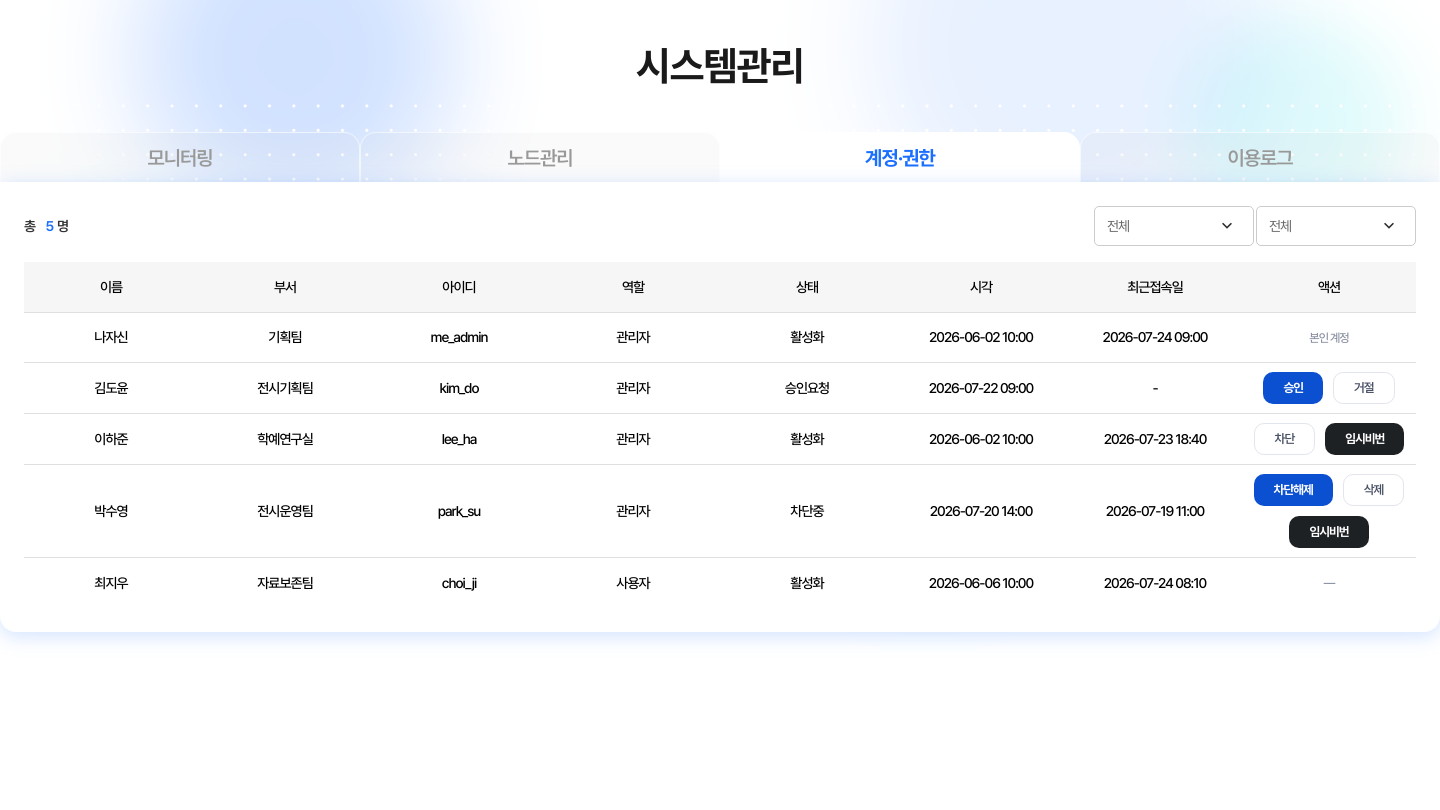
Scenario: Accounts — 필터·행별 인접 액션·확인/임시비번 모달 › (f) 임시비번 클릭: 확인 후 resetPassword 응답의 temporary_password를 1회 모달로 표시한다
Expected: the text "이하준" is shown, [24, 414, 198, 464]
Click the button "임시비번" in the row of "이하준" at [1365, 439], box [1325, 423, 1404, 455]
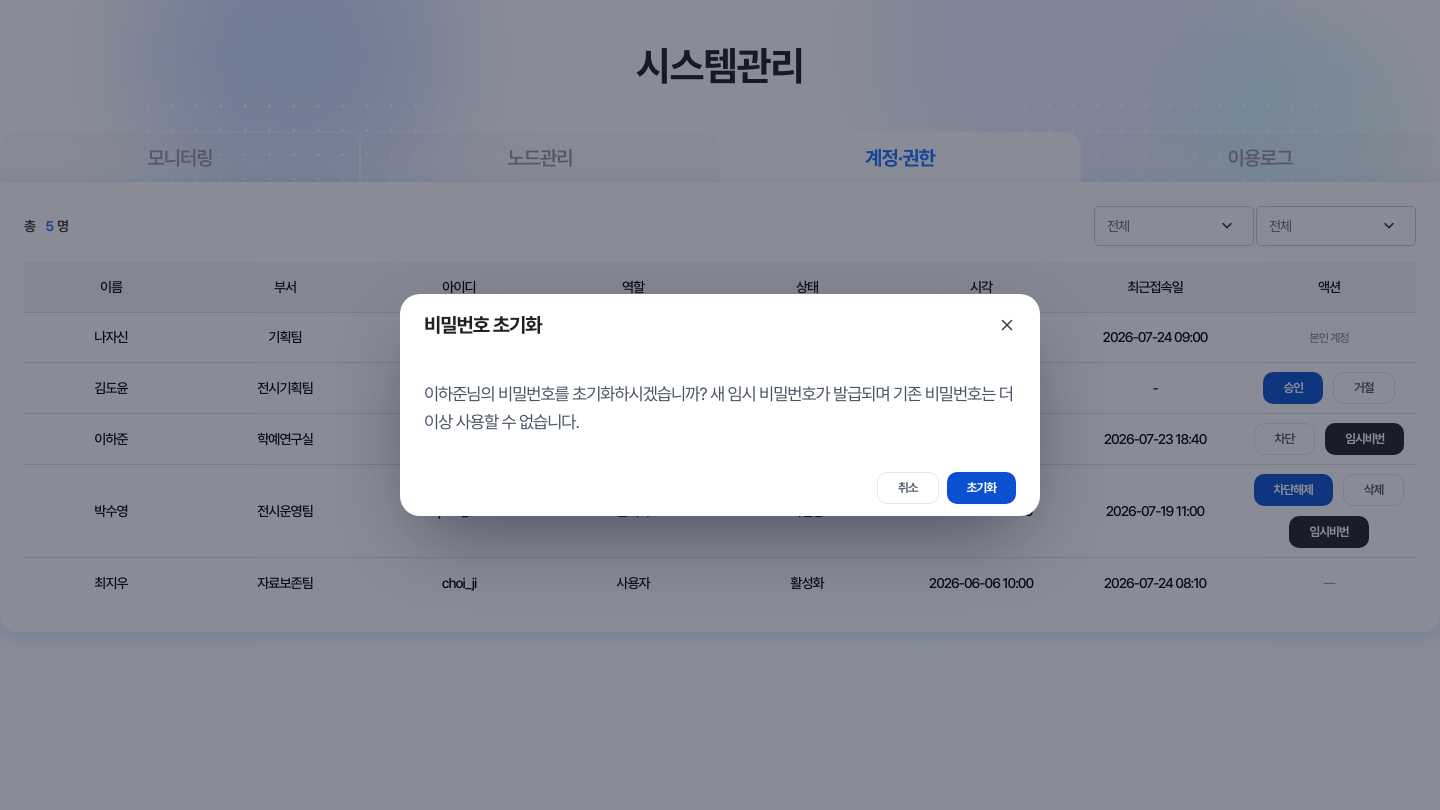
Result: the heading "비밀번호 초기화" is shown at [424, 310, 542, 340]
Click the button "초기화" at [981, 488], box [947, 472, 1016, 504]
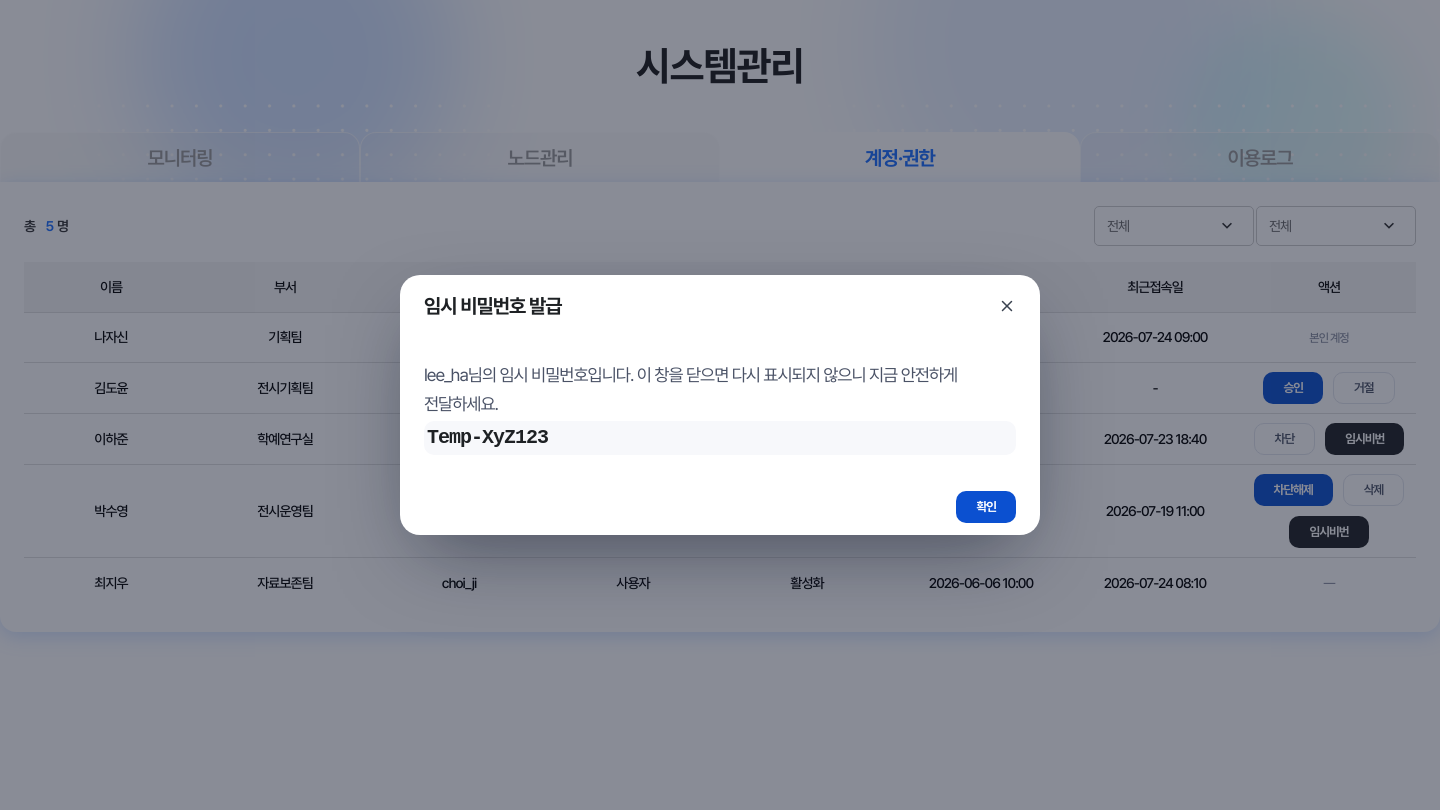
Result: the heading "임시 비밀번호 발급" is shown at [424, 291, 562, 321]
Result: the text "Temp-XyZ123" is shown at [424, 421, 1016, 455]
Result: the text "닫으면 다시 표시되지" is shown at [424, 364, 957, 414]
Click the button "확인" at [986, 507], box [956, 491, 1016, 523]
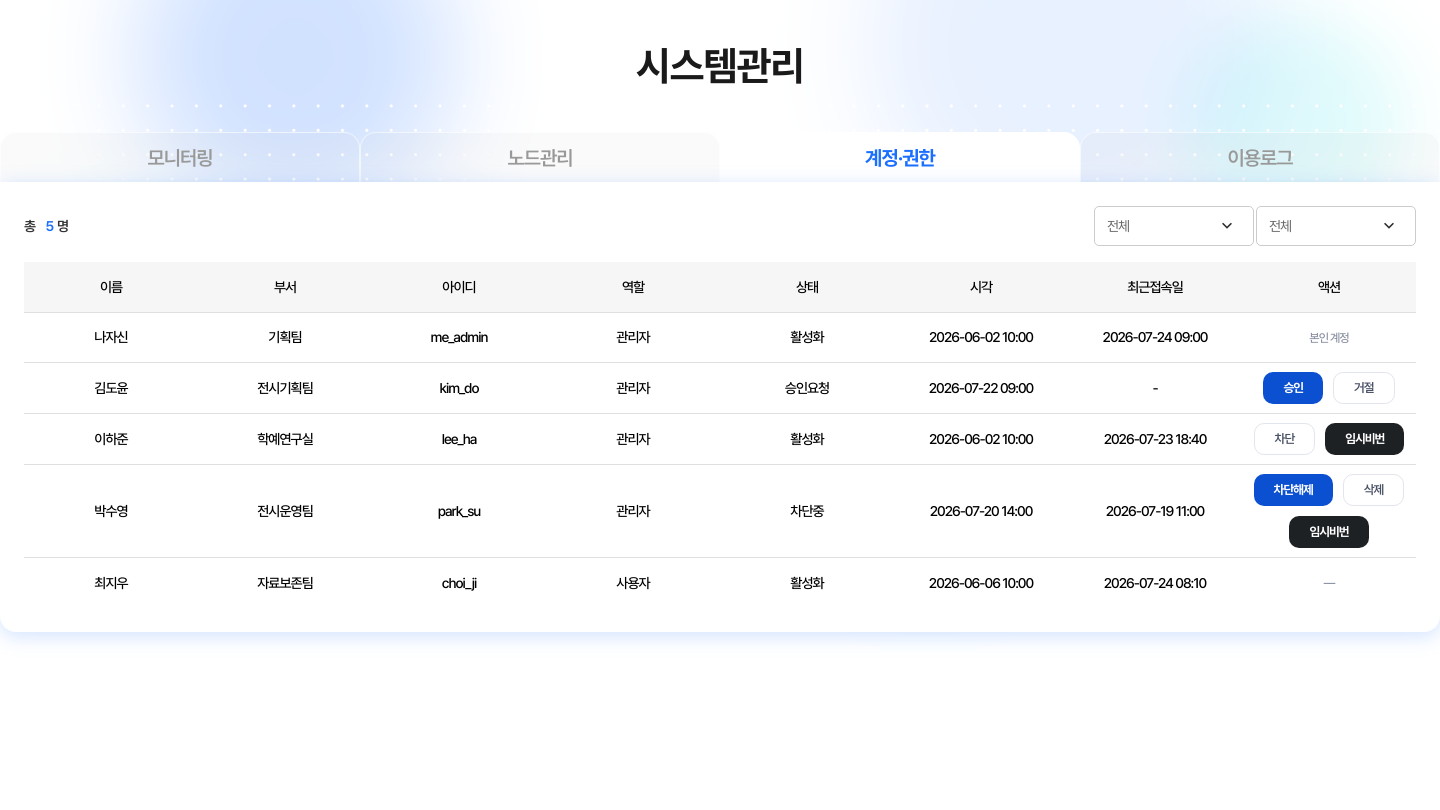
Result: the heading "임시 비밀번호 발급" is gone
